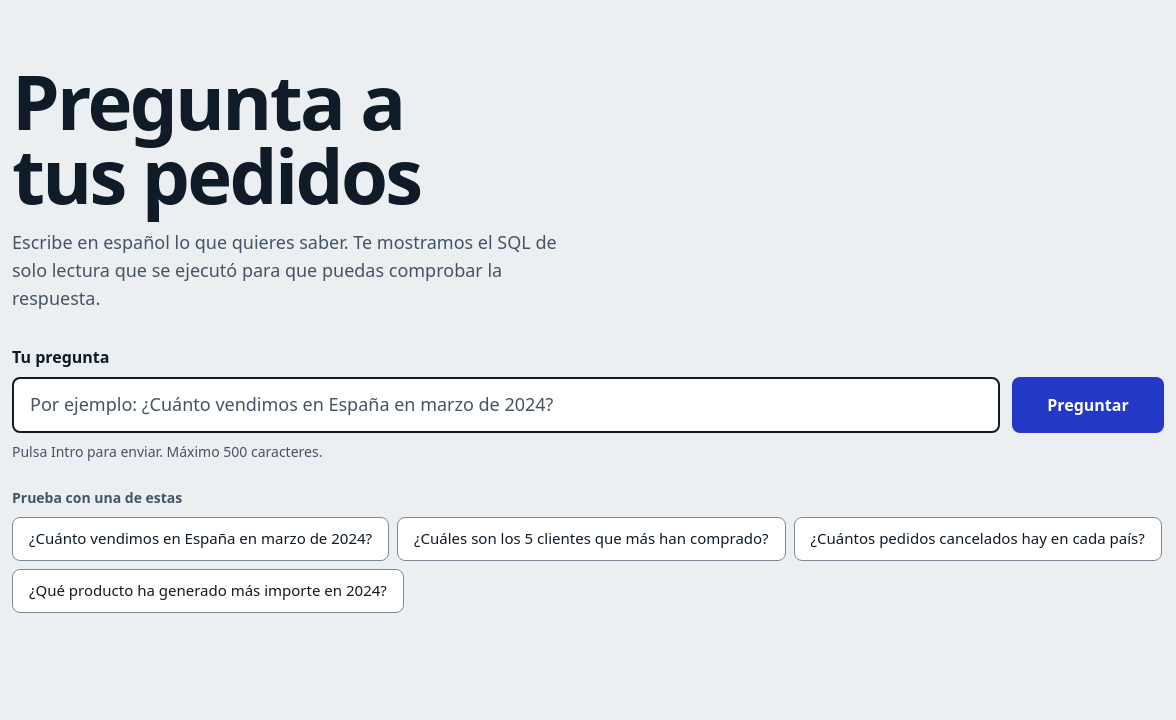
QuestionPanel › no envía una pregunta vacía y lo explica en un aviso
What coordinates should you click on to do the following:
click the button "Preguntar"
I would click on:
 (1088, 405)
Its box is [1012,377,1164,433].
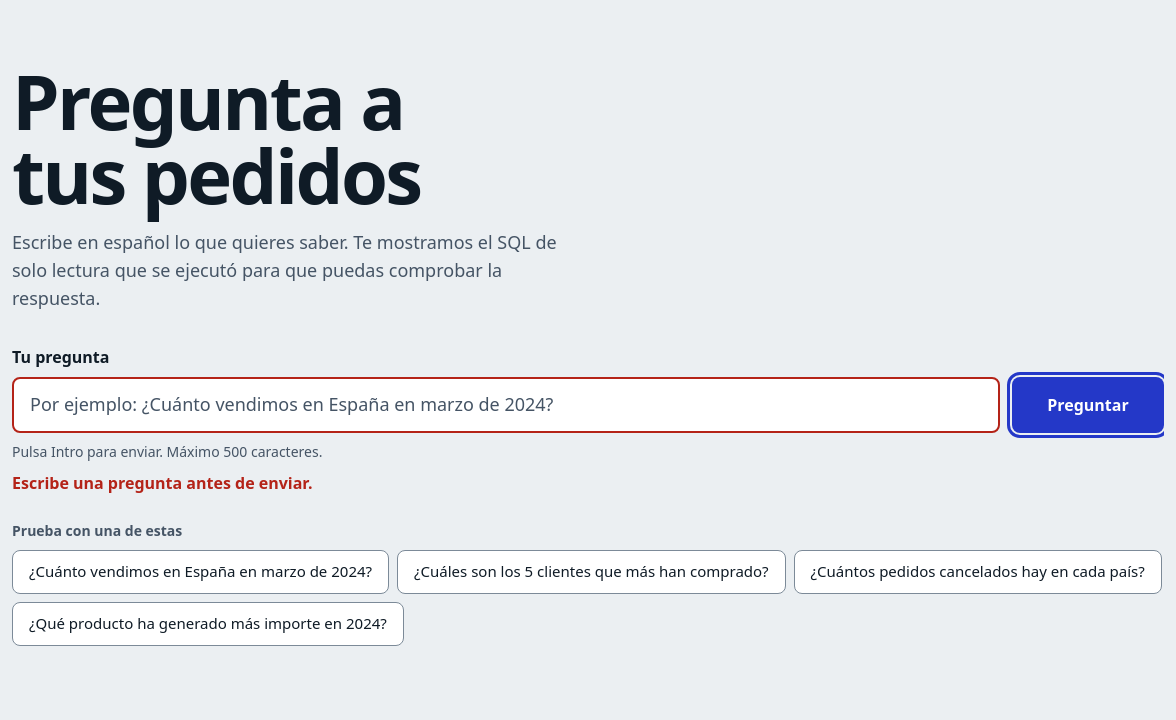
Now the message reads "Escribe una pregunta antes de enviar.", box [12,472,313,494]
